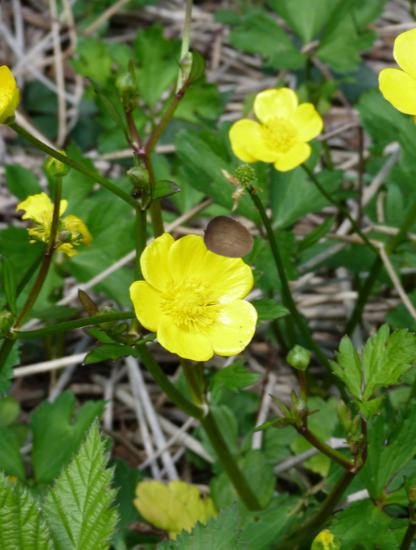Kiwi: (202, 212, 257, 267)
